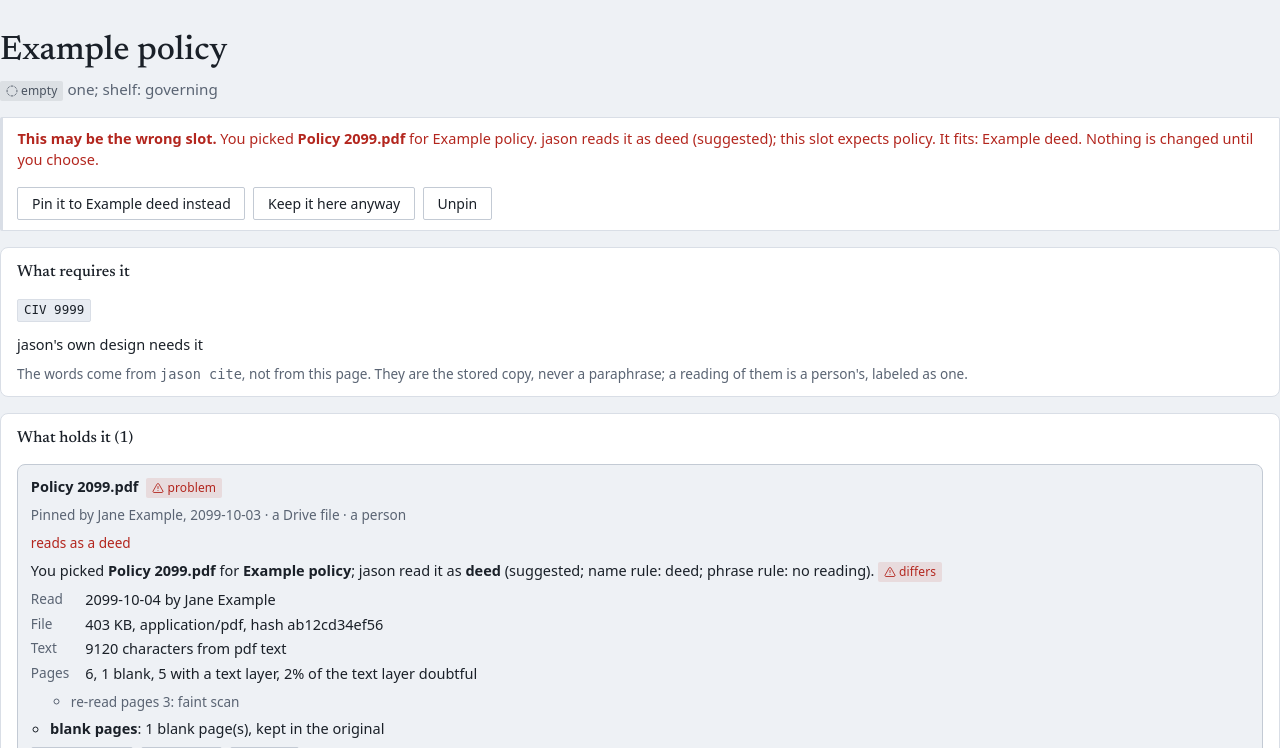
it: a slot › shows a wrong-slot pick first, and moves it with a preview then a confirm, recorded as the signed-in person
Check: the message shows "This may be the wrong slot.", box [17,128,217,148]
Check: the message shows "jason reads it as deed (suggested)", box [0,117,1279,231]
Step 1. Click the button "Pin it to Example deed instead" → (131, 204), box [17,187,245,220]
(page scrolled)
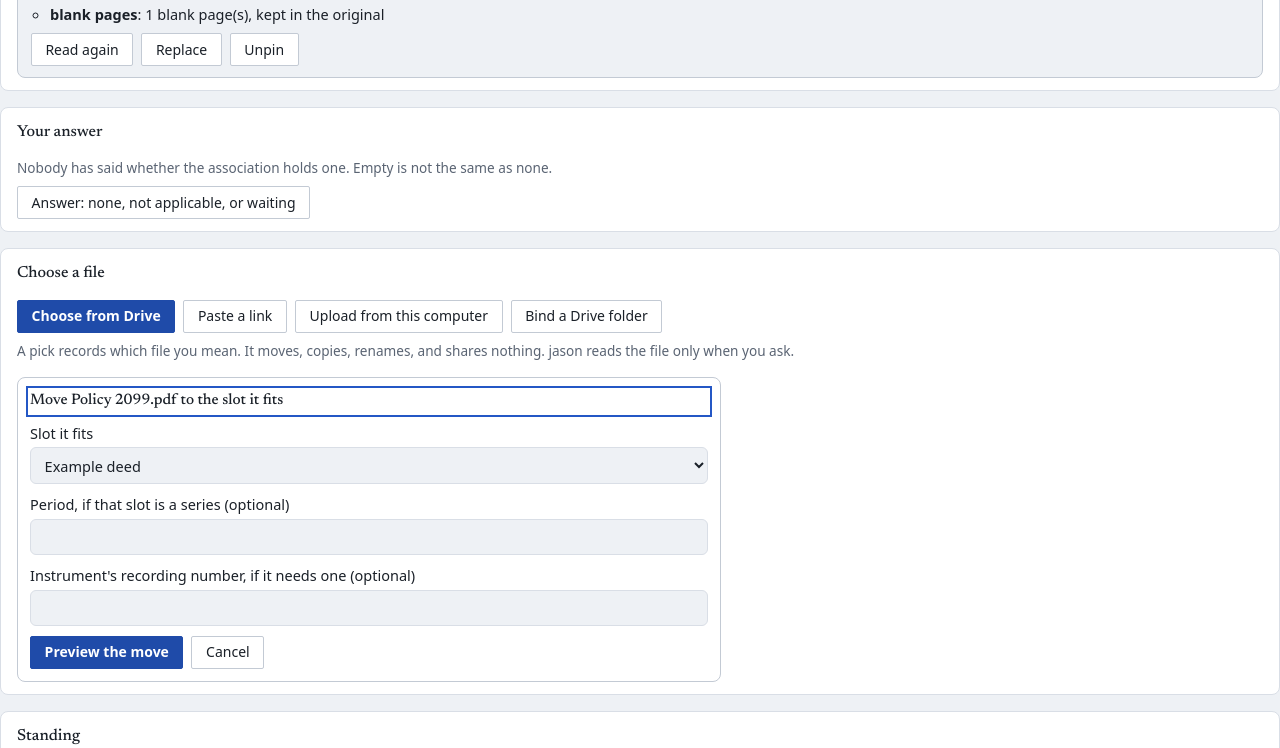
Step 2. Click the button "Preview the move" → (107, 652), box [30,636,184,669]
(page scrolled)
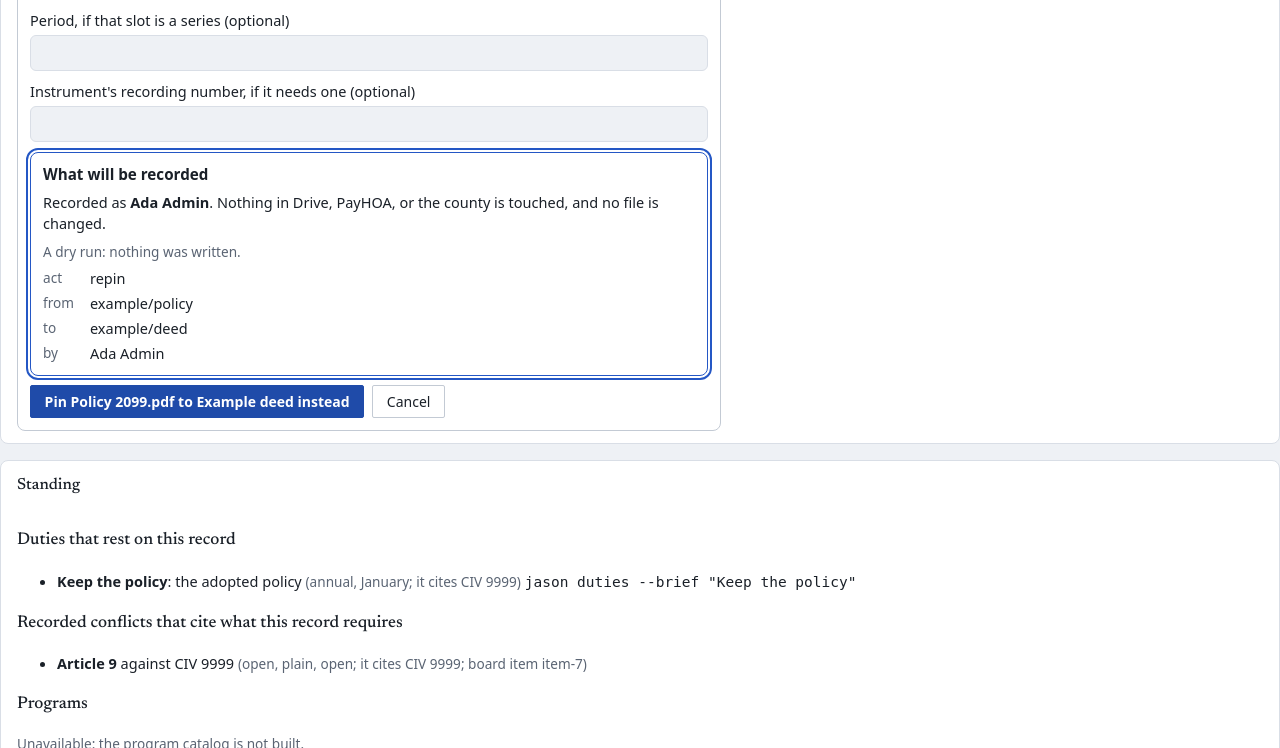
Check: the element "What will be recorded" shows "Recorded as Ada Admin", box [30,152,708,376]
Check: the text "example/deed" is shown, box [90,318,188,338]
Step 3. Click the button "Pin Policy 2099.pdf to Example deed instead" → (197, 402), box [30,385,364,418]
(page scrolled)
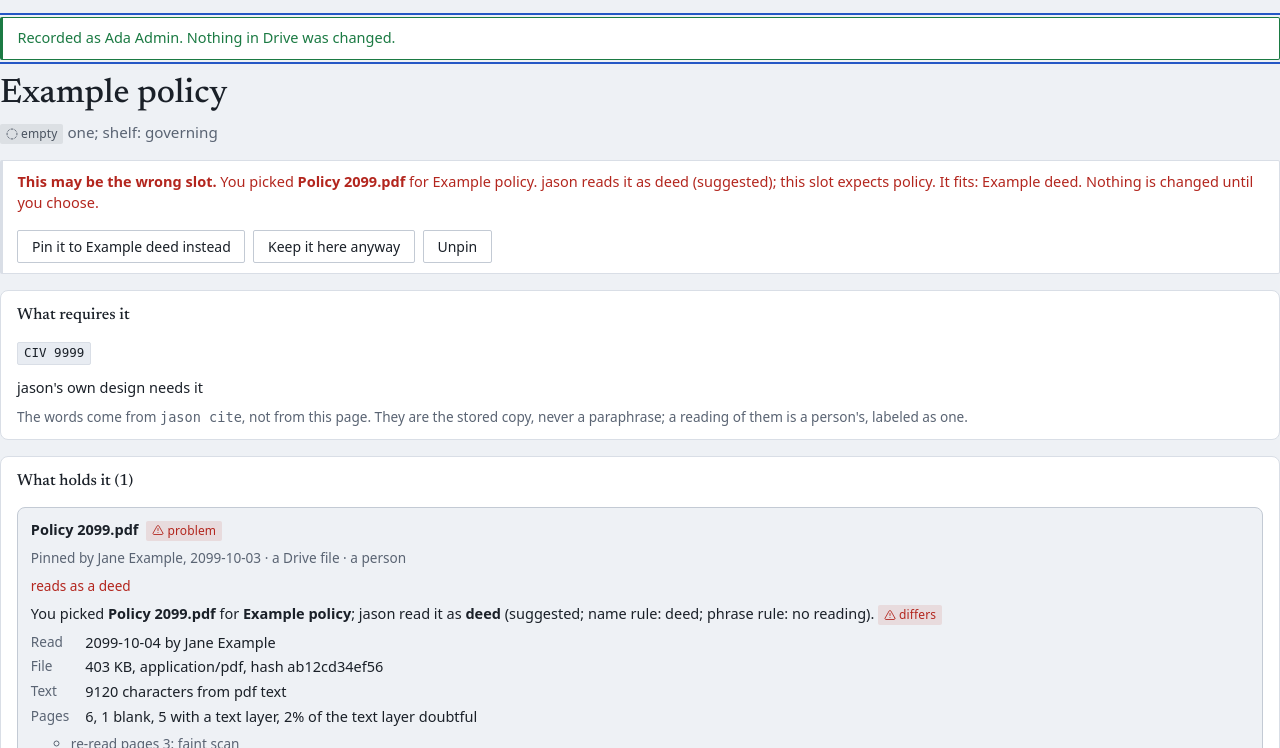
Check: the text "Recorded as Ada Admin. Nothing in Drive was changed." is shown, box [0,17,1279,60]
